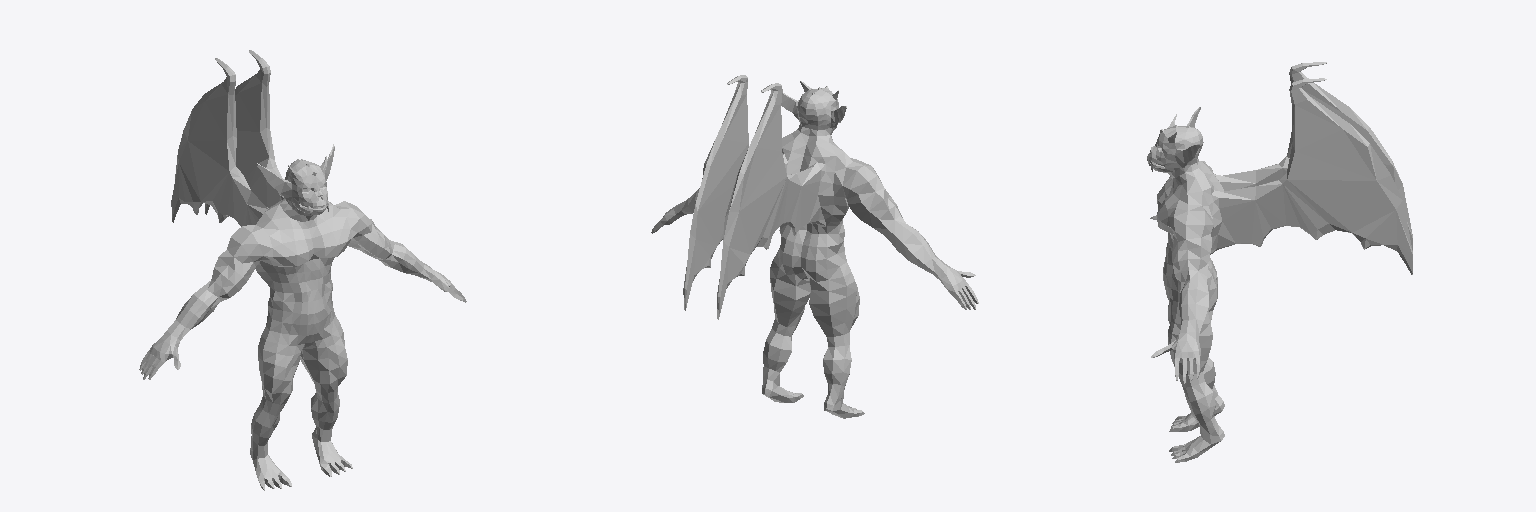
The model's file is monster.obj.
The picture shows the model from 3 angles: view 1: azimuth 30°, elevation 25°; view 2: azimuth 150°, elevation 25°; view 3: azimuth 270°, elevation 25°; orthographic projection.
Visible parts, largest first — view 1: Gargoyle_1; view 2: Gargoyle_1; view 3: Gargoyle_1.
Boxes of the visible parts, box(x1,y1,x2,y2) form: Gargoyle_1: box(139, 50, 466, 490); Gargoyle_1: box(651, 75, 978, 418); Gargoyle_1: box(1147, 62, 1412, 462).
Bounding box in the file's own units: 67.47 × 74.66 × 48.5.